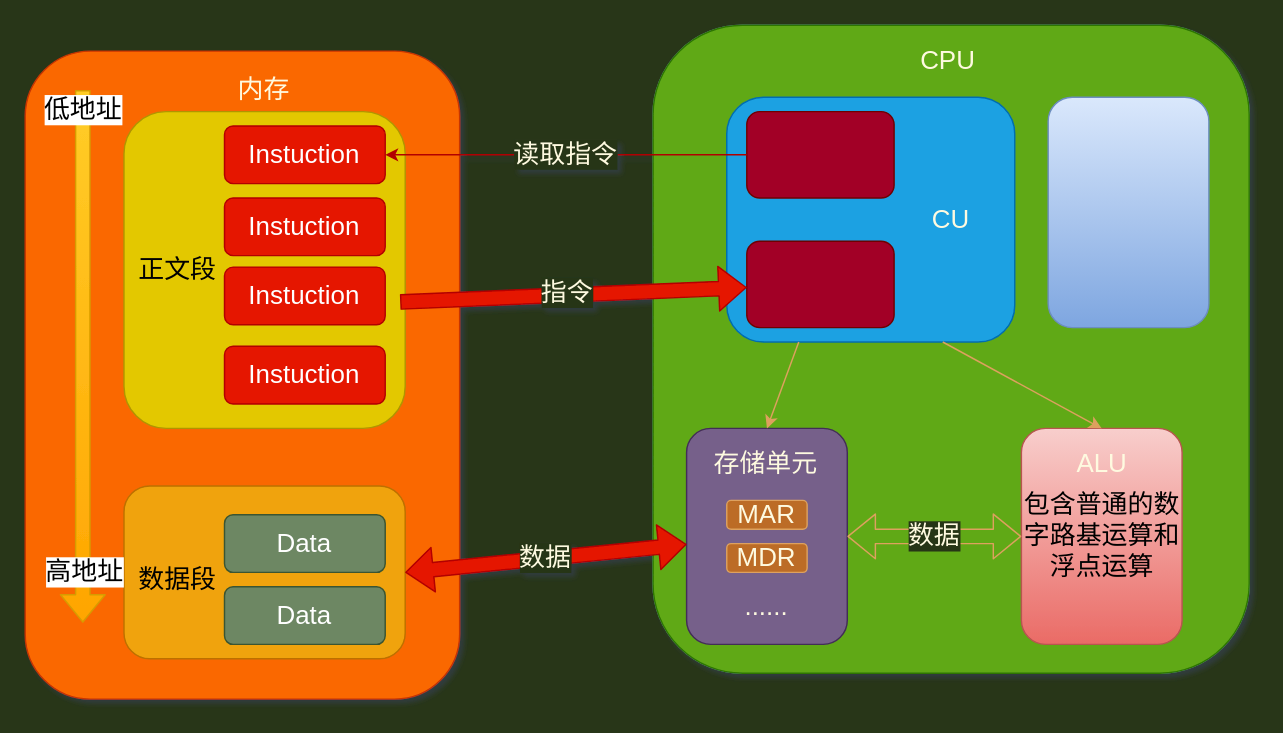
Some shapes in this 1283 by 733 pixel diagram are drawn without their labels. Each missing label, with the centre of its shape:
"IR" belongs at (819,284).
"PC" belongs at (819,154).
"中断系统" belongs at (1128,212).
